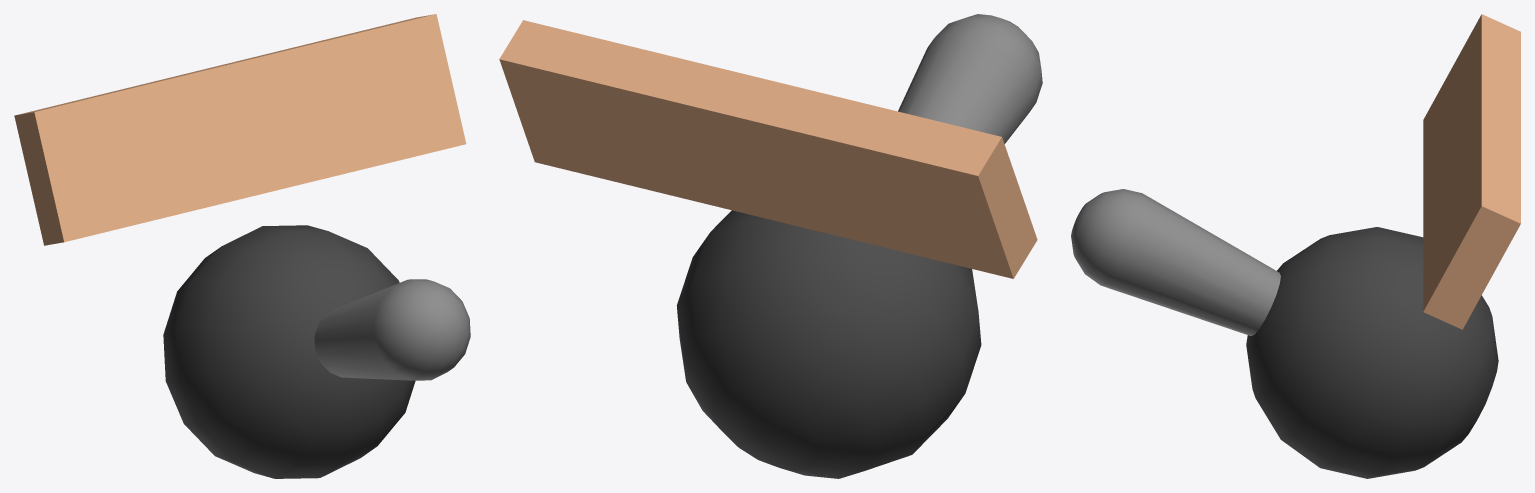
File: Switch.fbx
3 views of the same model, side by side, from view 1: azimuth 30°, elevation 25°; view 2: azimuth 150°, elevation 25°; view 3: azimuth 270°, elevation 25° (orthographic). The views are drawn at different scales.
Visible parts, largest first — view 1: Cube.002, Switch Base, Switch; view 2: Cube.002, Switch Base, Switch; view 3: Switch Base, Cube.002, Switch.
Part boxes in pixels (x1=…): Cube.002: x1=14, y1=14, x2=466, y2=245; Switch Base: x1=163, y1=225, x2=415, y2=478; Switch: x1=314, y1=279, x2=470, y2=380; Cube.002: x1=499, y1=20, x2=1037, y2=278; Switch Base: x1=676, y1=210, x2=981, y2=478; Switch: x1=898, y1=14, x2=1042, y2=143; Switch Base: x1=1246, y1=227, x2=1498, y2=478; Cube.002: x1=1423, y1=14, x2=1520, y2=329; Switch: x1=1071, y1=189, x2=1280, y2=335.
Size of the model in its own units: 15.77 by 13.68 by 15.61.
